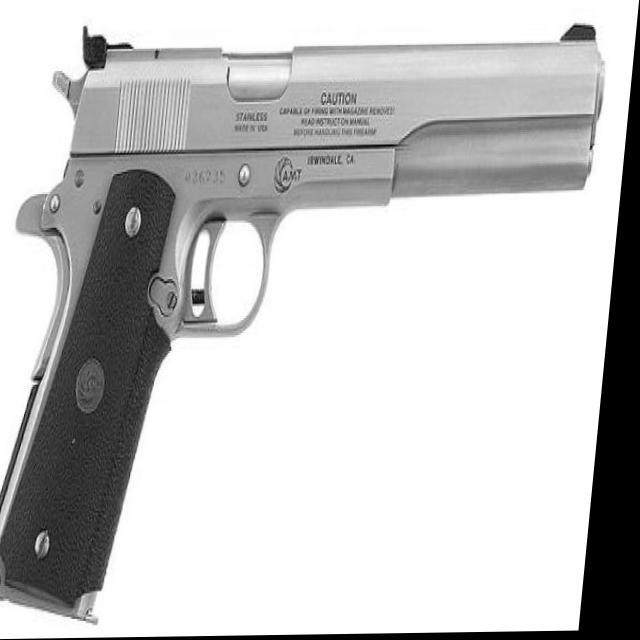handgun: (0, 10, 608, 626)
